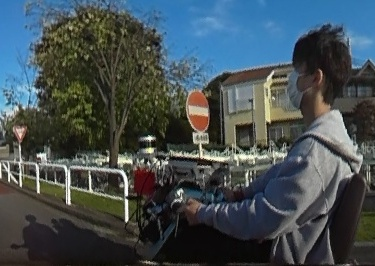person: (178, 25, 363, 266)
